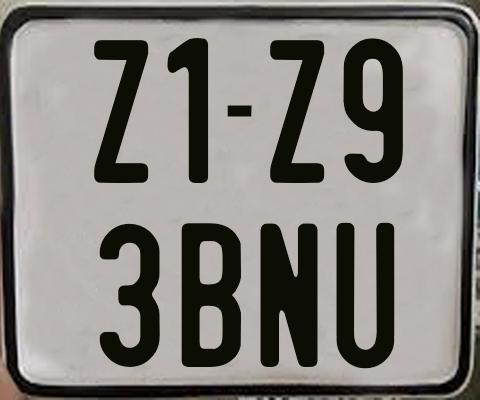1: (166, 36, 208, 185)
3: (99, 224, 159, 373)
9: (340, 37, 404, 185)
B: (180, 222, 242, 368)
N: (260, 221, 318, 369)
U: (336, 223, 396, 370)
Z: (92, 38, 146, 183), (267, 37, 321, 180)
